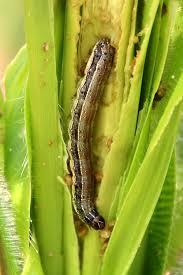fallarmy_worm: (67, 34, 117, 241)
